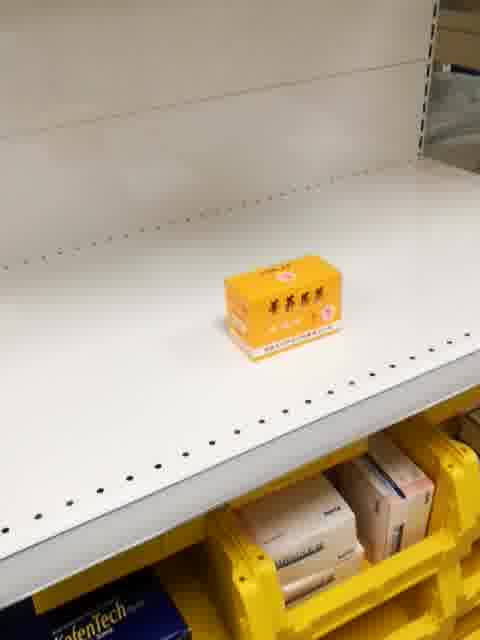jasminetea: (221, 252, 344, 362)
